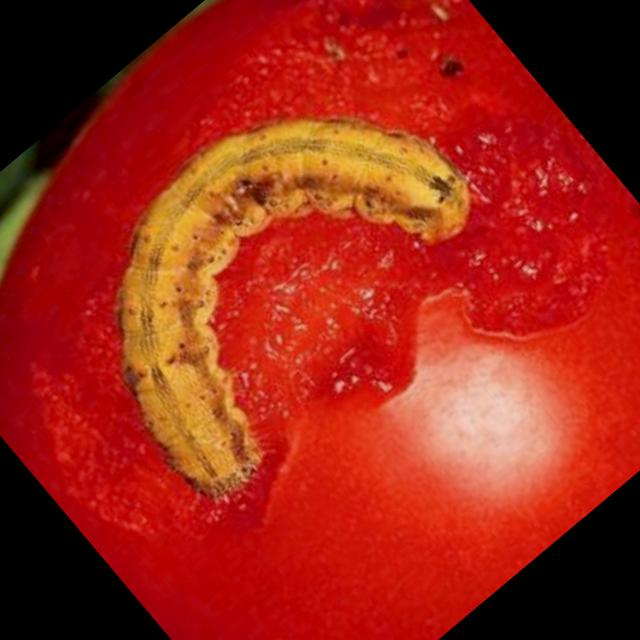Cotton bollworm: (11, 19, 548, 544)
